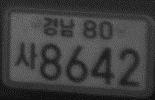0: (97, 19, 114, 40)
2: (116, 47, 143, 87)
4: (90, 46, 116, 85)
6: (64, 44, 89, 83)
8: (38, 42, 63, 80), (81, 18, 98, 40)
경남_H: (42, 15, 75, 38)
사: (13, 40, 38, 70)
